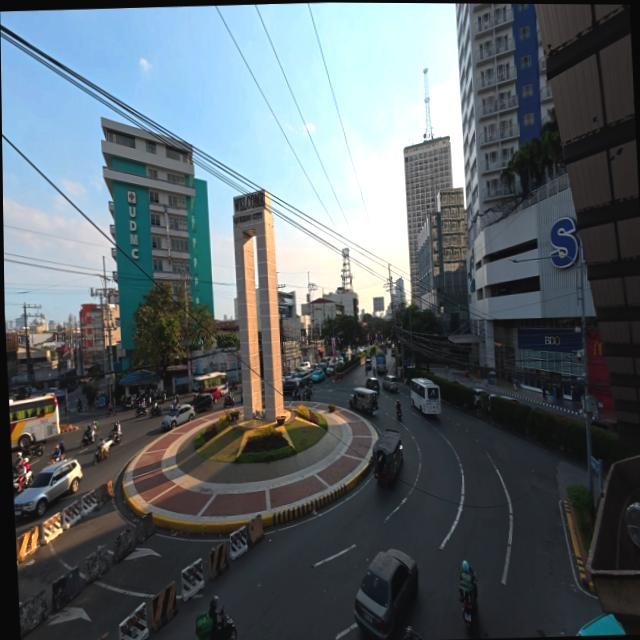Jeepneys: (373, 430, 402, 487), (349, 388, 379, 414)
bus: (9, 394, 59, 448), (411, 378, 441, 414), (193, 372, 228, 392), (376, 352, 386, 375)
car: (355, 549, 419, 639), (14, 459, 82, 517), (577, 614, 625, 635), (162, 404, 195, 429), (191, 393, 215, 413), (194, 387, 221, 402), (591, 418, 617, 433), (490, 394, 520, 404), (474, 387, 488, 408), (204, 387, 222, 403), (383, 375, 399, 392), (297, 371, 312, 387), (284, 379, 299, 394), (367, 377, 380, 394), (312, 369, 325, 382), (284, 372, 300, 380), (325, 363, 335, 375), (298, 362, 310, 370), (317, 362, 327, 371), (365, 356, 371, 370), (338, 357, 344, 365), (391, 348, 395, 356)
motorcycle: (194, 608, 236, 639), (460, 573, 478, 628), (13, 471, 33, 495), (93, 441, 112, 465), (29, 441, 45, 457), (81, 431, 96, 448), (108, 427, 122, 444), (48, 452, 64, 464), (153, 390, 166, 404), (123, 399, 137, 411), (150, 406, 162, 417), (168, 399, 178, 412), (224, 395, 234, 408), (303, 387, 312, 400), (292, 388, 301, 401), (136, 407, 147, 417), (106, 407, 116, 417), (231, 380, 238, 390), (397, 408, 402, 420), (77, 402, 82, 412), (372, 368, 376, 377), (365, 368, 368, 375)
